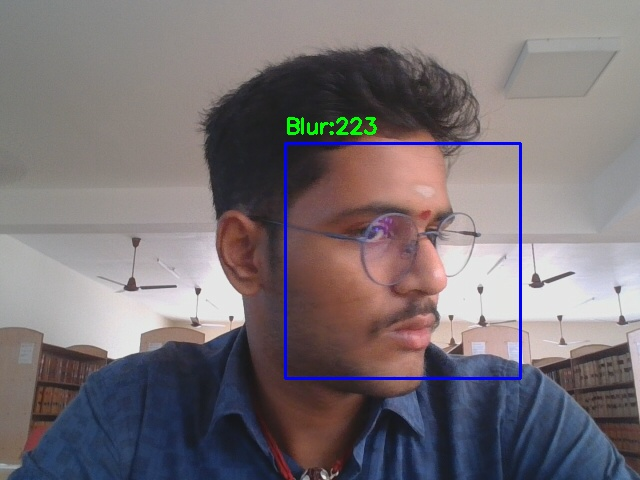real: (285, 143, 520, 378)
